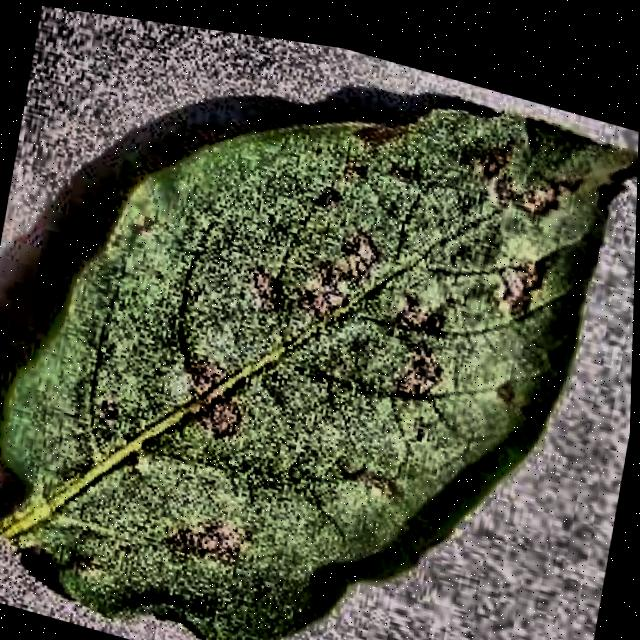Potato_leaf_early_blight: (0, 110, 638, 640)
